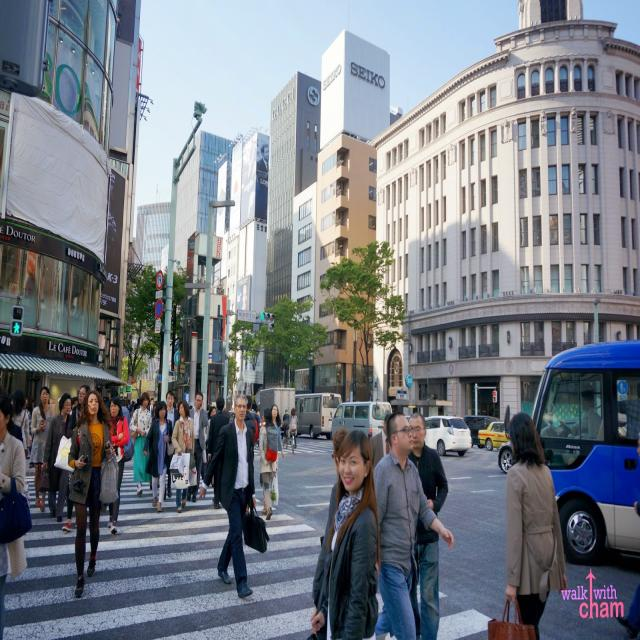body: (371, 410, 455, 640), (197, 391, 272, 600), (503, 410, 569, 639), (316, 426, 383, 640), (64, 388, 120, 599), (407, 410, 450, 639), (0, 390, 34, 640), (309, 426, 350, 628), (36, 391, 74, 523), (60, 384, 90, 532), (107, 394, 135, 535), (142, 399, 174, 513), (28, 386, 54, 512), (170, 398, 198, 514), (0, 284, 87, 319), (232, 393, 258, 504), (207, 395, 231, 510), (128, 391, 154, 496), (257, 407, 280, 523), (188, 391, 208, 496), (2, 395, 78, 421), (570, 391, 603, 441), (10, 388, 32, 458), (368, 413, 391, 473), (104, 389, 157, 415), (253, 142, 270, 220), (270, 404, 286, 459), (287, 407, 300, 450), (166, 390, 178, 432), (206, 406, 234, 424), (205, 406, 217, 447), (250, 402, 260, 448), (484, 418, 510, 434), (120, 398, 131, 435), (24, 395, 32, 436), (282, 408, 290, 448), (419, 419, 440, 428), (147, 396, 155, 416), (337, 405, 345, 419), (222, 408, 230, 421), (175, 401, 179, 411), (189, 404, 193, 410)
